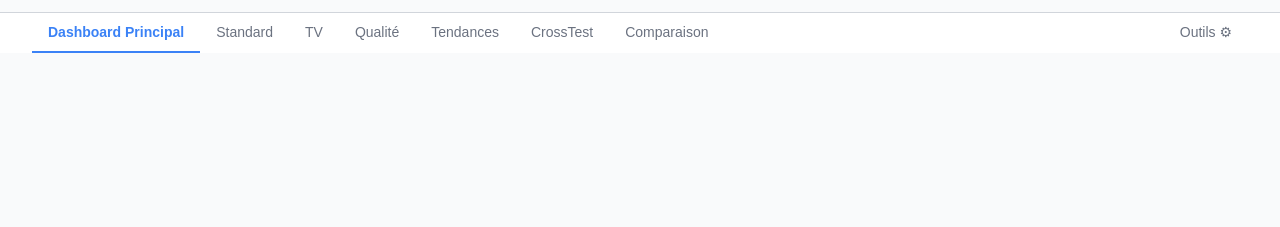
Test: TabBar › click "Outils ⚙" → sous-menu visible avec 4 items
Click the button "Outils ⚙": (1206, 33) [1164, 13, 1248, 53]
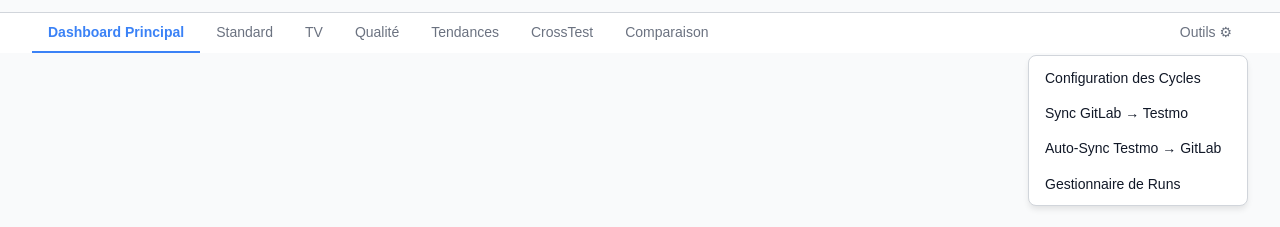
Expected: the button "Configuration des Cycles" is shown, [1029, 60, 1247, 96]
Expected: the button "Sync GitLab → Testmo" is shown, [1029, 96, 1247, 131]
Expected: the button "Auto-Sync Testmo → GitLab" is shown, [1029, 131, 1247, 166]
